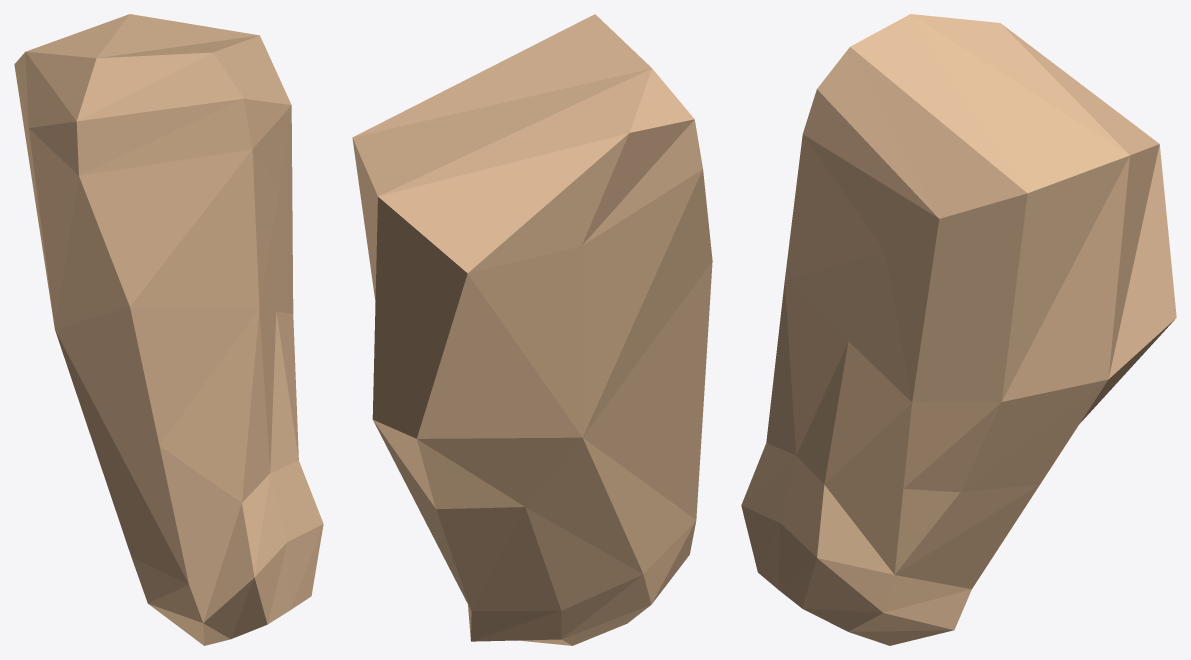
Rendered from LThumb0_mesh.dae.
3 views of the same model, side by side, from view 1: azimuth 30°, elevation 25°; view 2: azimuth 150°, elevation 25°; view 3: azimuth 270°, elevation 25° (orthographic). The views are drawn at different scales.
Parts seen in each view (by area): view 1: LThumb0; view 2: LThumb0; view 3: LThumb0.
Boxes of the visible parts, left/top/right/bottom form: LThumb0: left=14, top=14, right=323, bottom=645; LThumb0: left=352, top=14, right=712, bottom=645; LThumb0: left=741, top=14, right=1176, bottom=645.
Bounding box in the file's own units: 0.0306 × 0.0677 × 0.0464.
